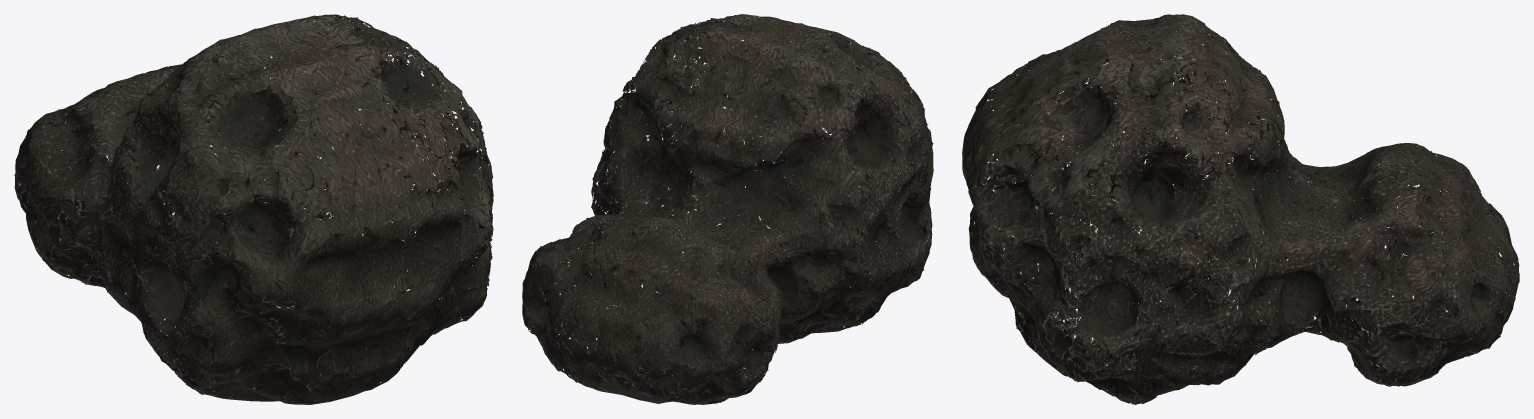
Rendered from asteroid_rare_1.glb.
3 renders of one model, left to right at view 1: azimuth 30°, elevation 25°; view 2: azimuth 150°, elevation 25°; view 3: azimuth 270°, elevation 25°, orthographic. The views are drawn at different scales.
Parts seen in each view (by area): view 1: model; view 2: model; view 3: model.
Part boxes in pixels (x1,y1,x2,y2): model: [14, 14, 493, 404]; model: [522, 14, 933, 404]; model: [962, 14, 1519, 404].
Bounding box in the file's own units: 1.23 × 1.28 × 1.89.
1 material, 1 textured.
